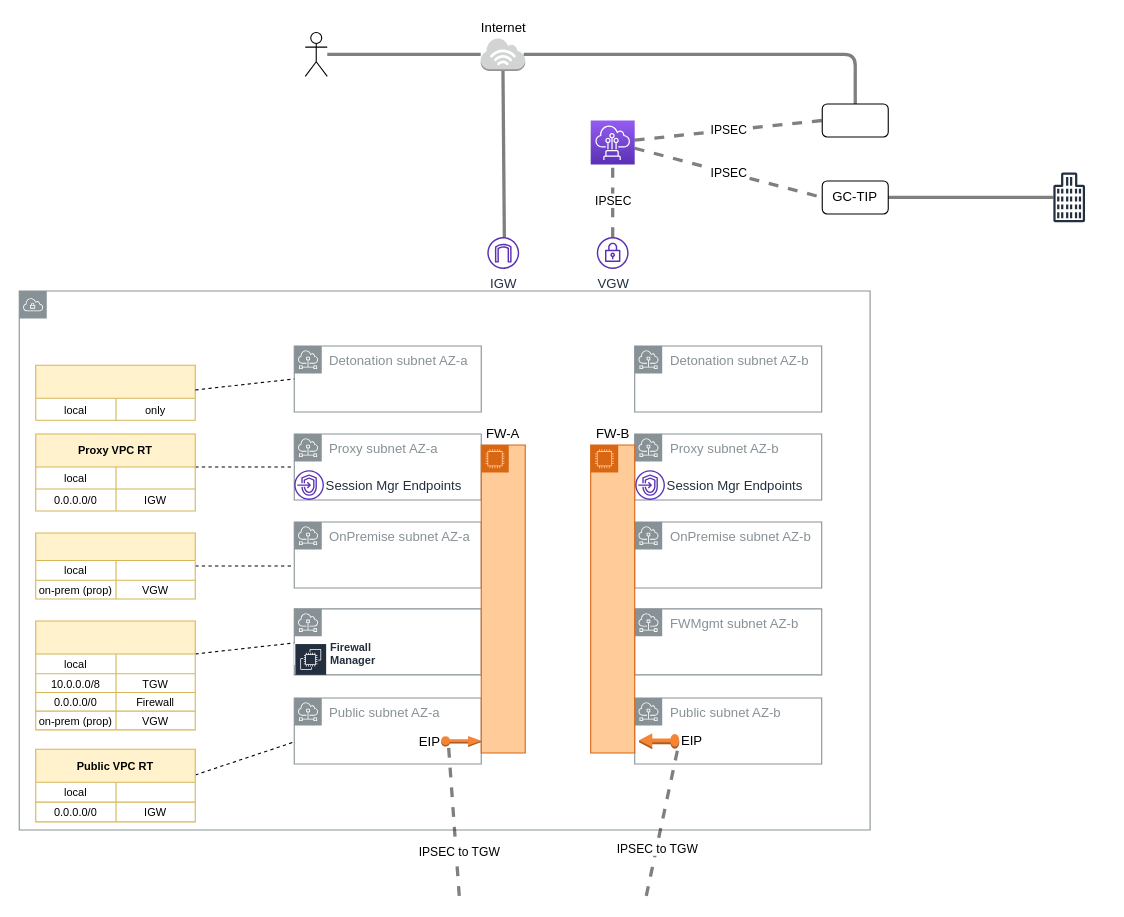
Some shapes in this 1124 by 917 pixel diagram are drawn without their labels. Here are the shapes that lost their labels. From the top down, the box of each, then its label:
(304, 31, 327, 76): Public Traffic
(821, 103, 888, 137): GC-CAP
(590, 119, 635, 164): Direct Connect
(1053, 172, 1085, 222): on-premises
(35, 364, 195, 420): Detonation VPC RT
(35, 532, 195, 599): On-Premise VPC RT
(18, 290, 870, 830): Perimeter VPC 10.7.4.0/22 100.96.250.0/23
(293, 608, 481, 675): FWMgmt subnet AZ-a
(35, 620, 195, 730): FWMgmt VPC RT
